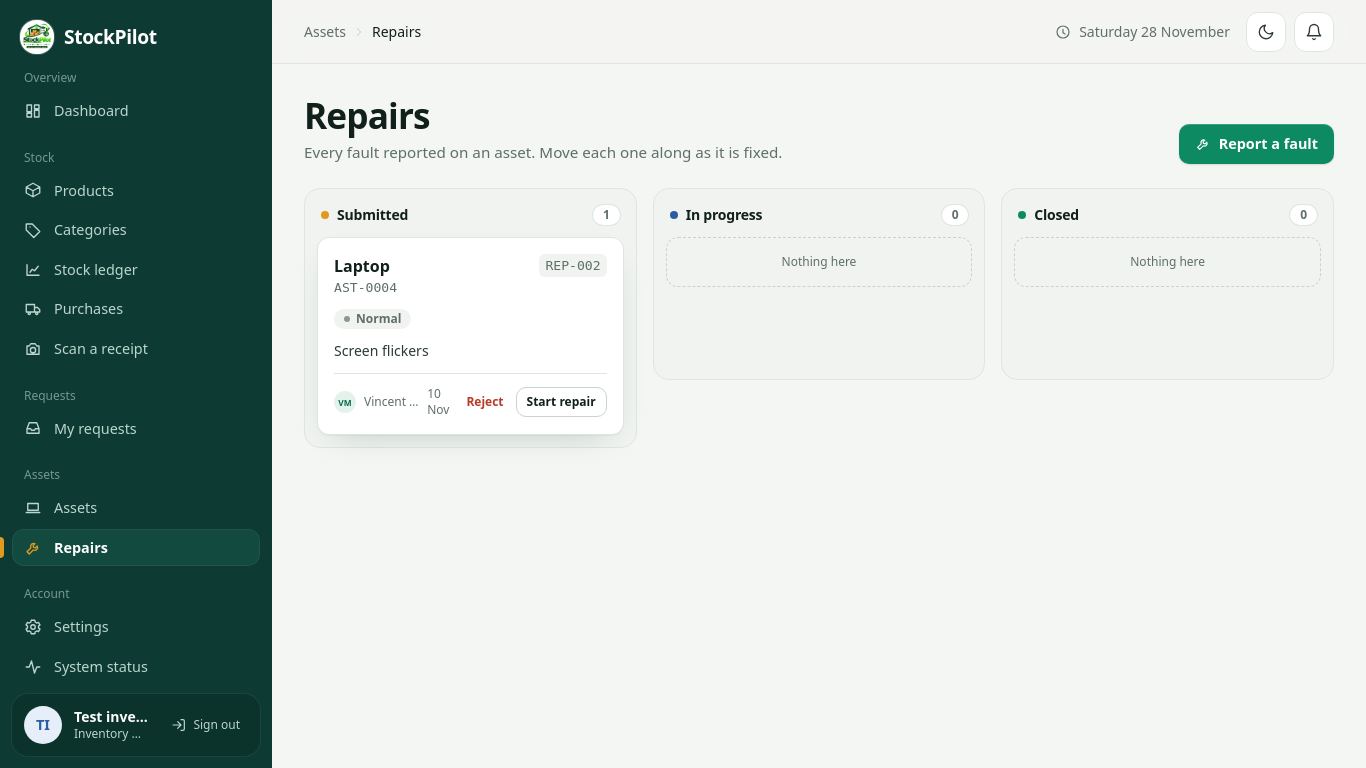
Test case: repairs › move along the board at once, and back if the server refuses
The width and height of the screenshot is (1366, 768).
Expected: the text "Laptop" is shown, [334, 254, 397, 278]
Click the button with aria-label "Start repair: REP-002".
click(561, 402)  # box [516, 387, 607, 417]
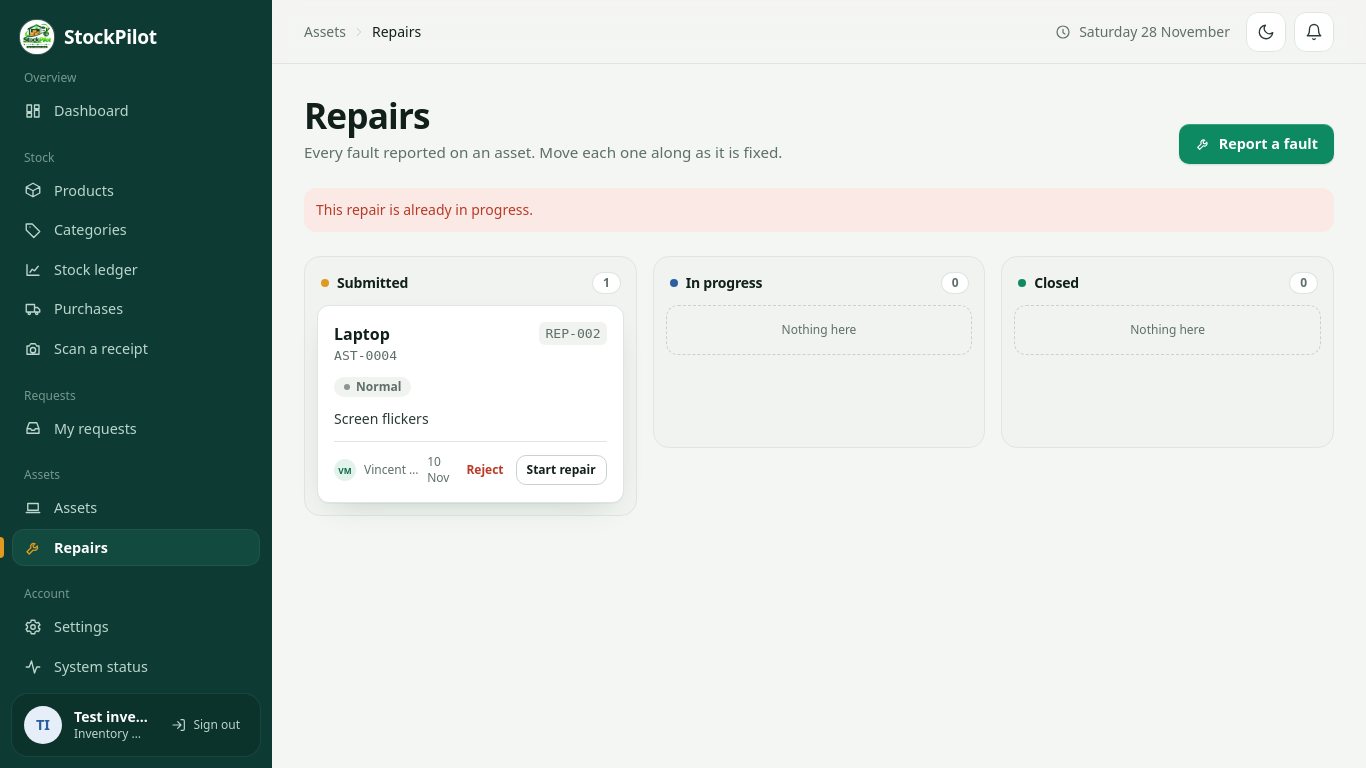
Expected: the text "Laptop" is shown, [334, 322, 397, 346]
Now the message reads "This repair is already in progress.", box [316, 200, 533, 218]
